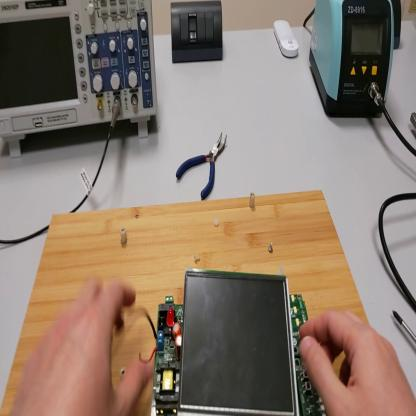hand: (14, 275, 157, 415), (300, 309, 416, 416)
low voltage board: (141, 269, 329, 415)
oscilloscope: (3, 3, 158, 159)
pliers: (175, 131, 229, 200)
screwdriver-: (395, 311, 416, 346)
socket: (392, 3, 403, 47)
welder station: (310, 3, 394, 119)
working area: (2, 189, 369, 413)
